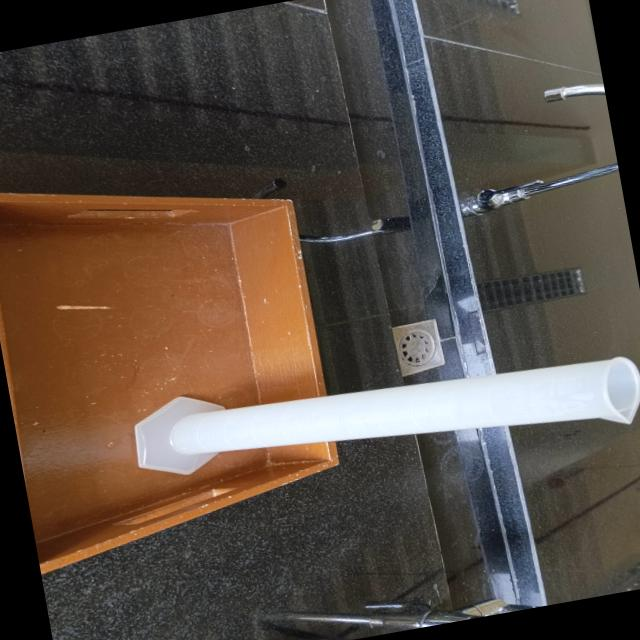graduated_cylinder: (111, 303, 640, 516)
